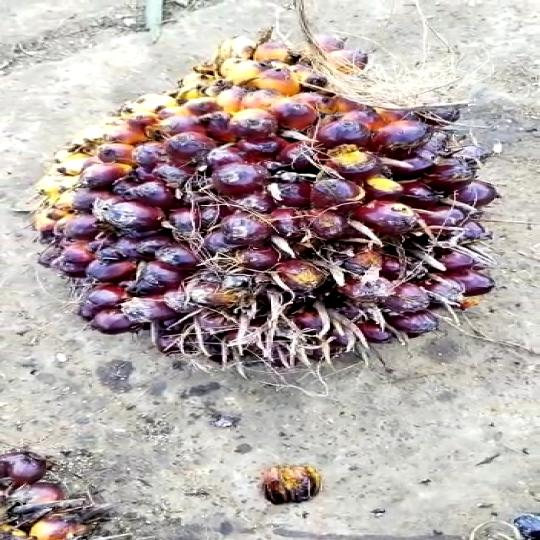kurang masak: (28, 41, 524, 359)
